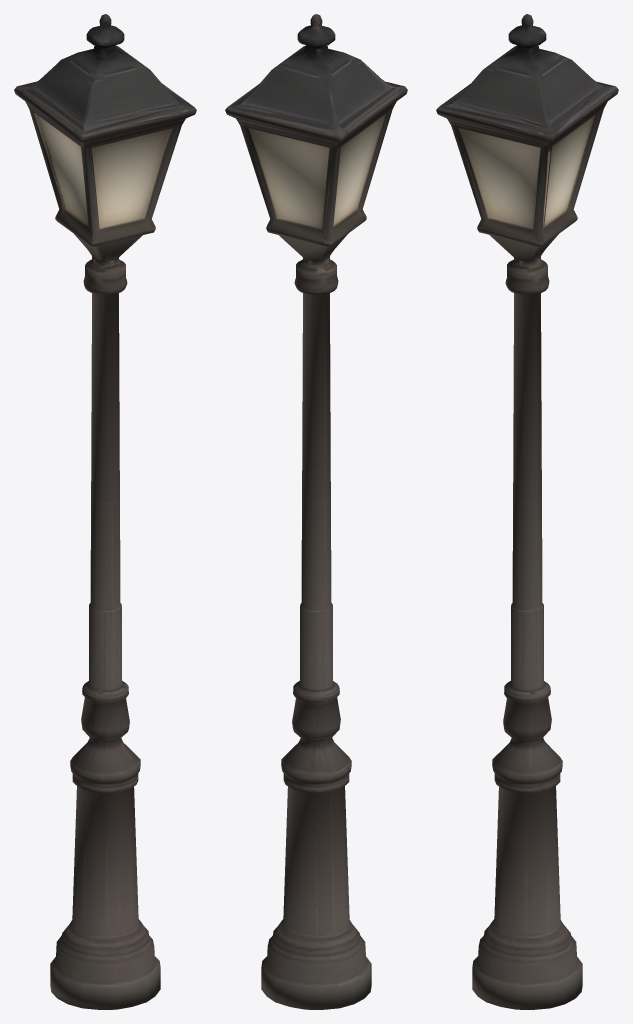
File: Outdoor__street_lamp_outdoor_realistic_style_b0e24458_v3.cluster.glb
3 views of the same model, side by side, from view 1: azimuth 30°, elevation 25°; view 2: azimuth 150°, elevation 25°; view 3: azimuth 330°, elevation 25° (orthographic).
Visible parts, largest first — view 1: texture_pbr_20250901; view 2: texture_pbr_20250901; view 3: texture_pbr_20250901.
Part boxes in pixels (x1=…): texture_pbr_20250901: x1=14, y1=14, x2=196, y2=1009; texture_pbr_20250901: x1=225, y1=14, x2=407, y2=1009; texture_pbr_20250901: x1=436, y1=14, x2=618, y2=1009.
Size of the model in its own units: 0.2382 by 1.9 by 0.2382.
Materials: 1 (1 with a texture image).
